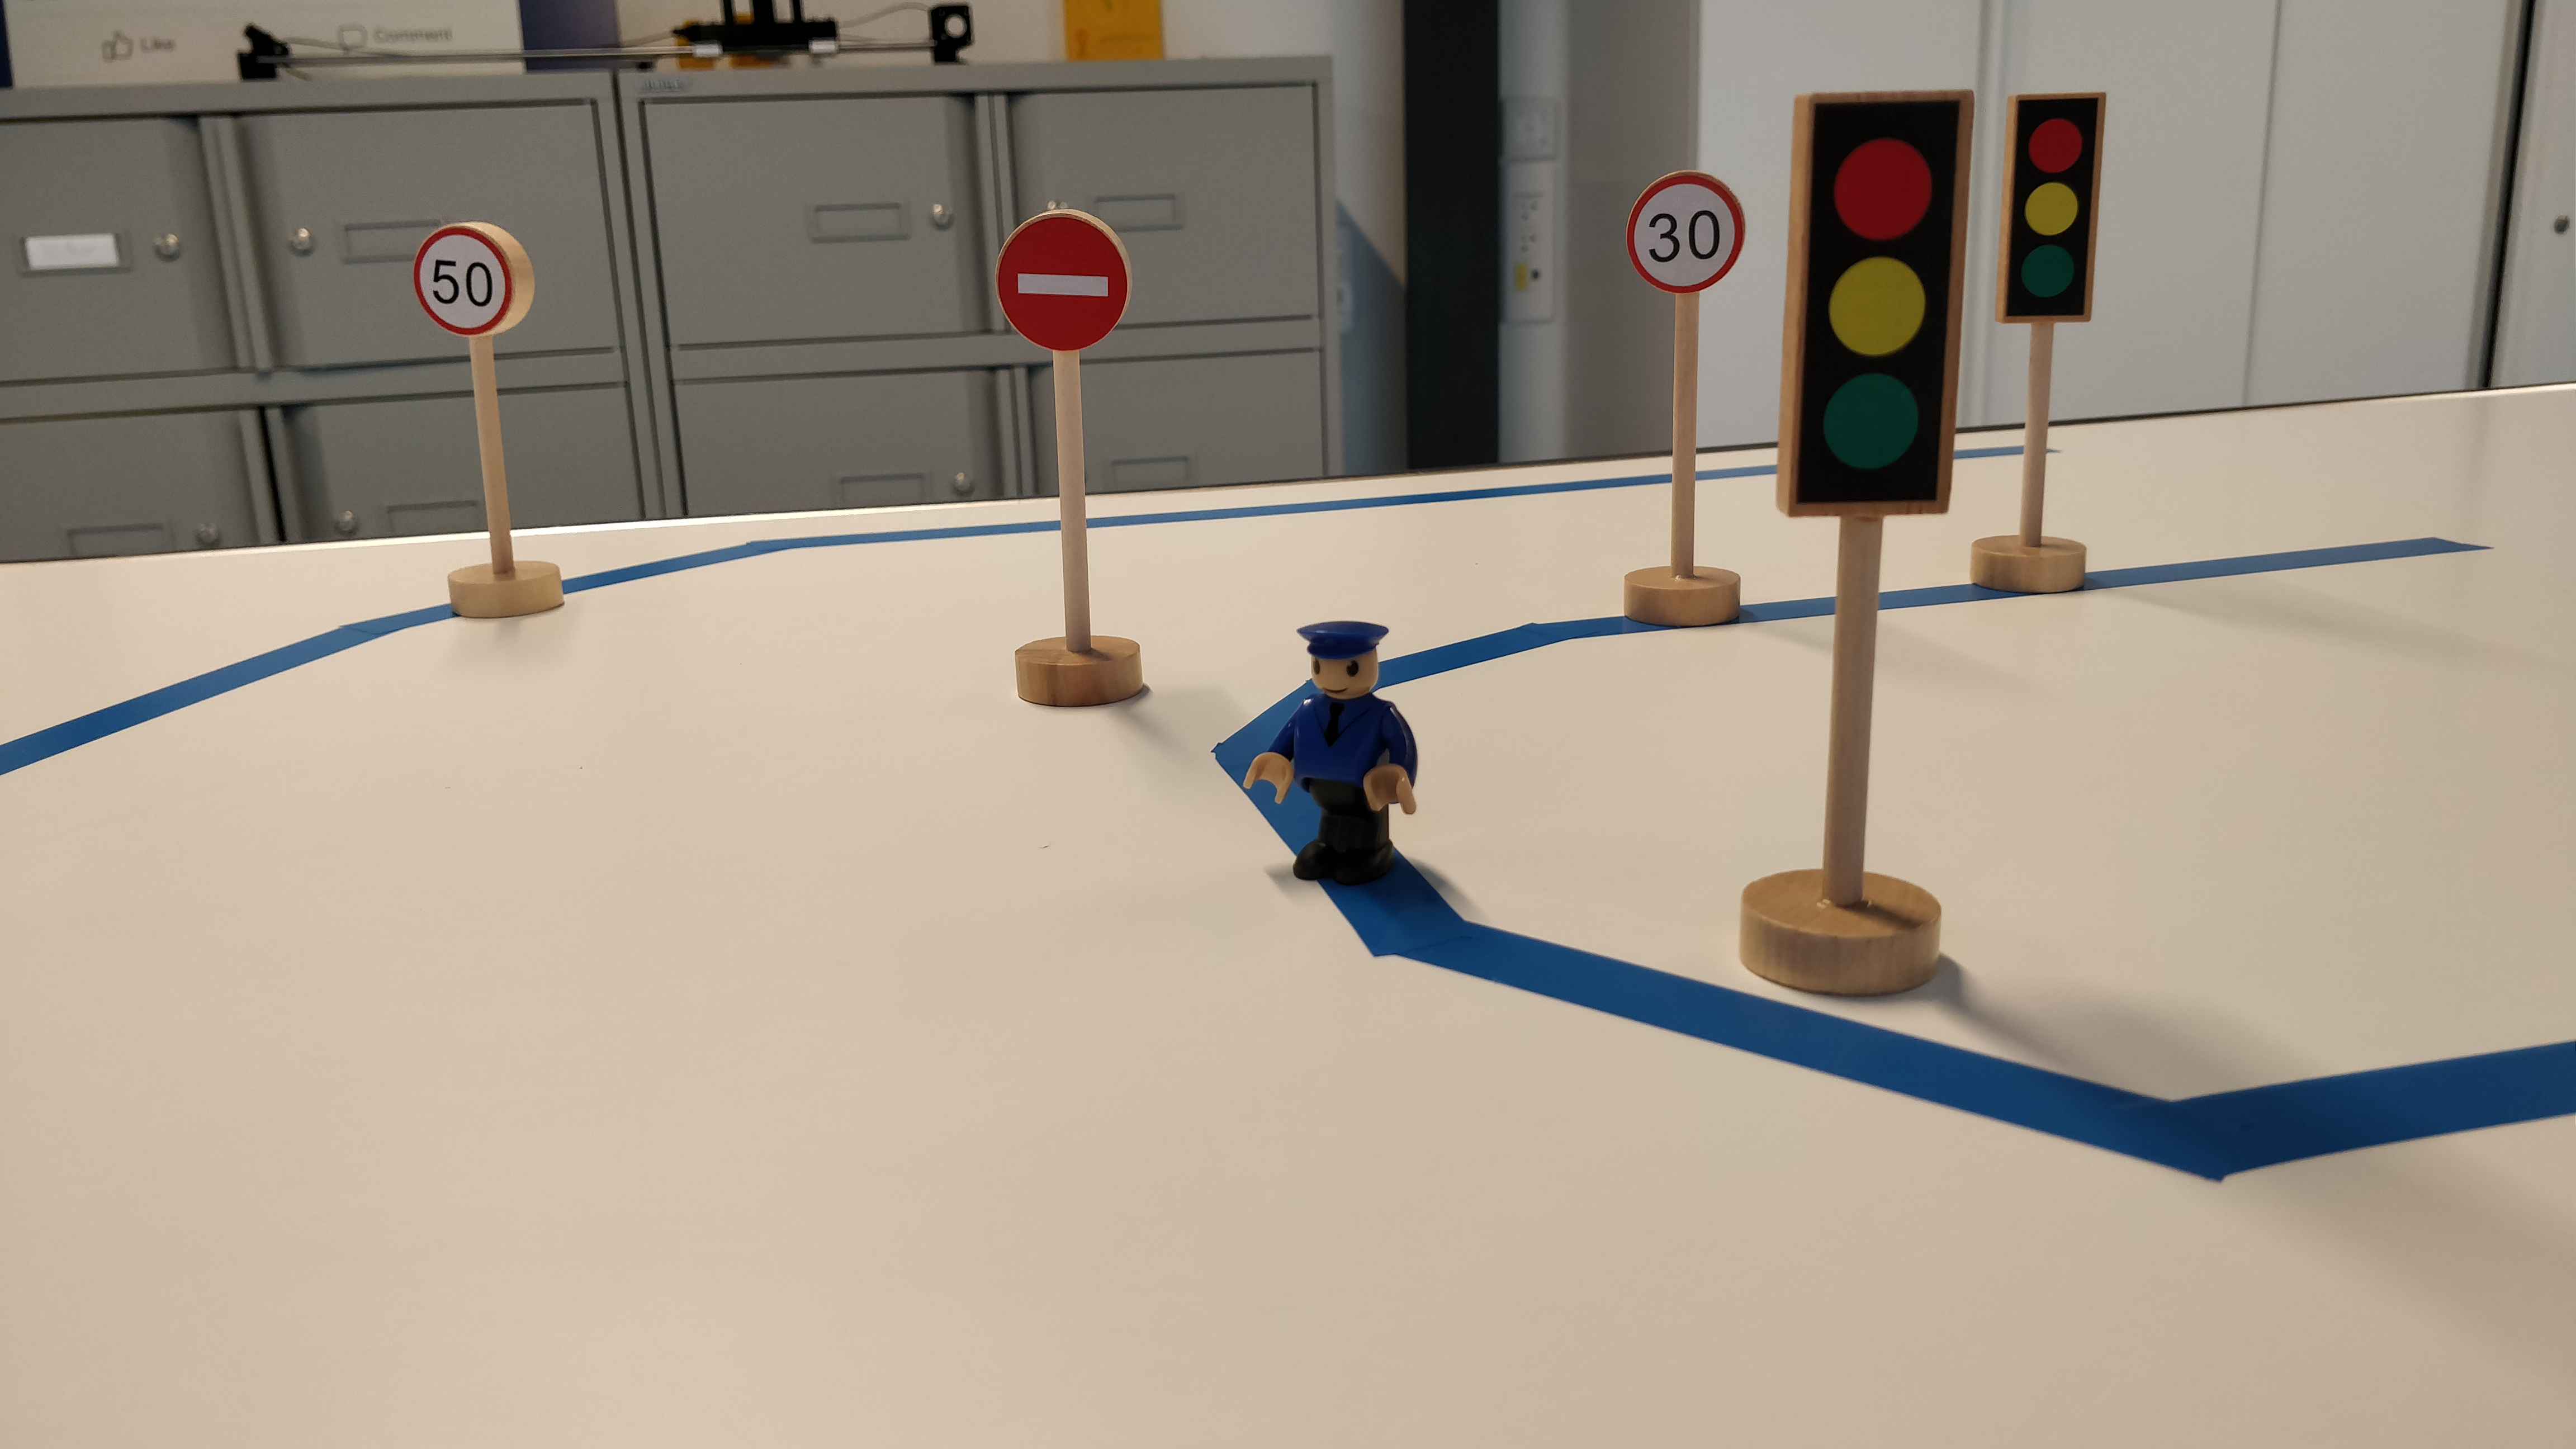Person: (1242, 617, 1427, 891)
Prohibition Sign: (987, 208, 1134, 356)
Speed Limit 30: (1618, 168, 1752, 295)
Speed Limit 50: (408, 217, 537, 341)
Traffic Light: (1774, 88, 1981, 523), (1992, 92, 2108, 327)
